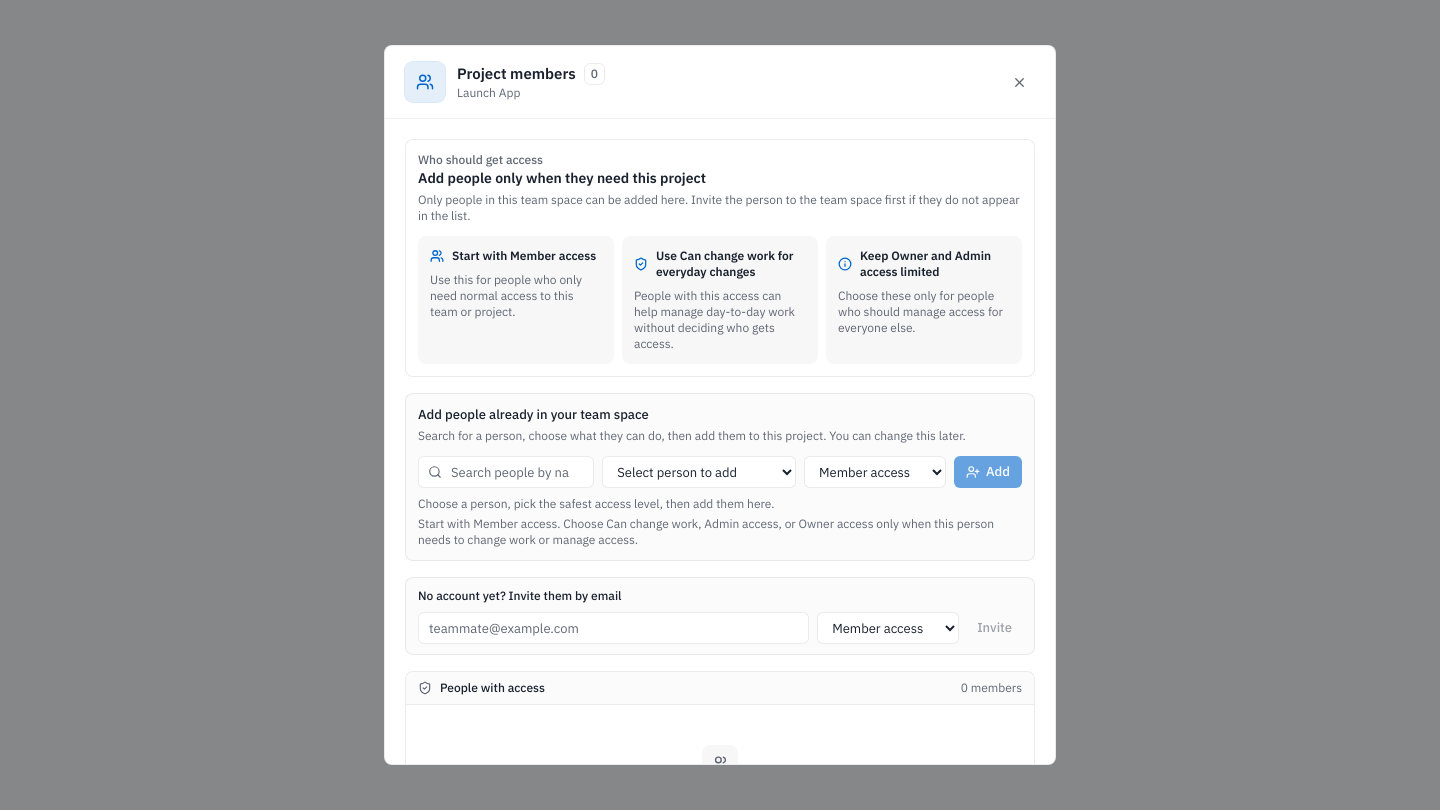
Test: ResourceMembersModal › shows permission guidance when adding a member fails
This screenshot has width=1440, height=810.
Select "builder (builder@example.com)" in the dropdown named "Select person to add" at [699, 472], box [602, 456, 796, 488]
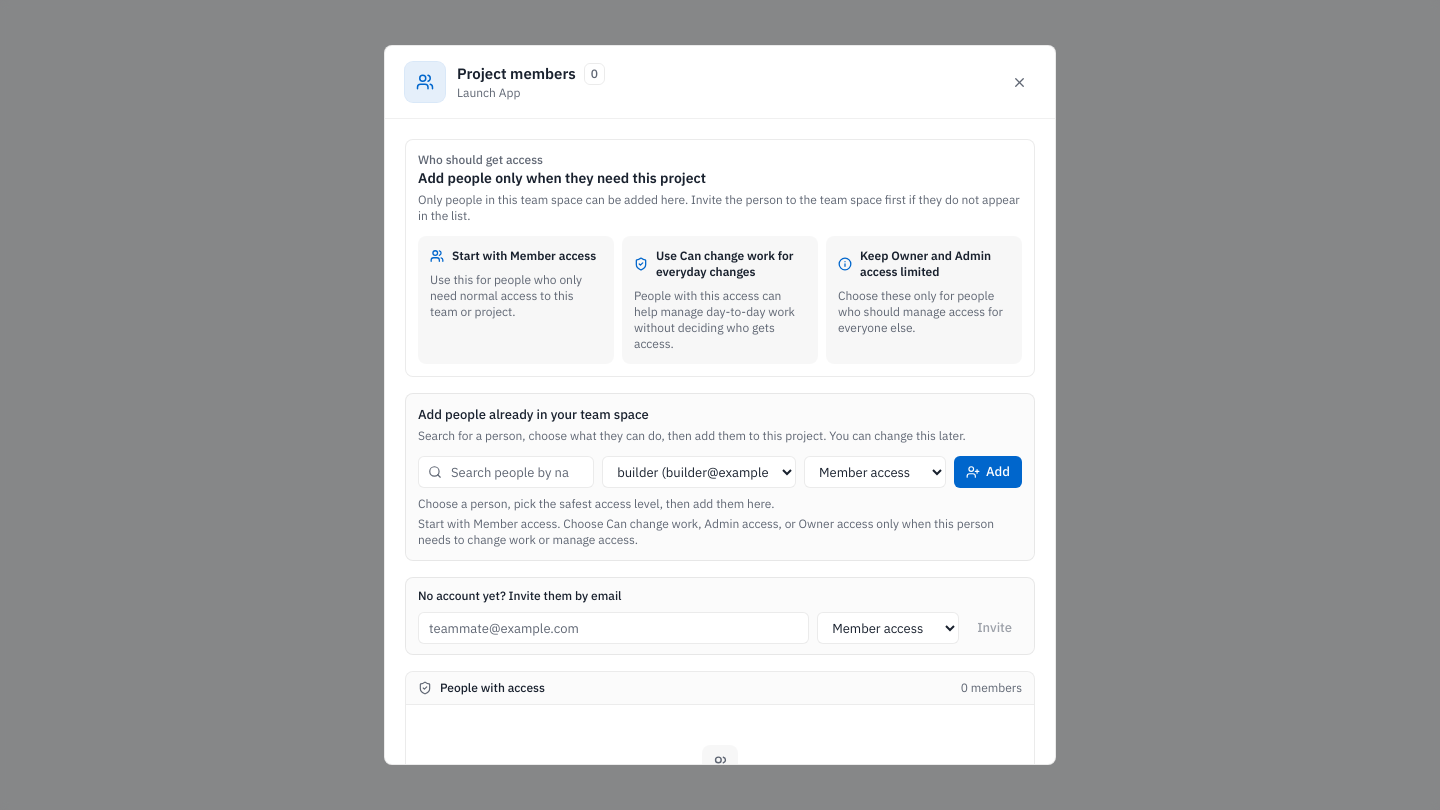
Click the button "Add".
click(988, 472)  # box [954, 456, 1022, 488]
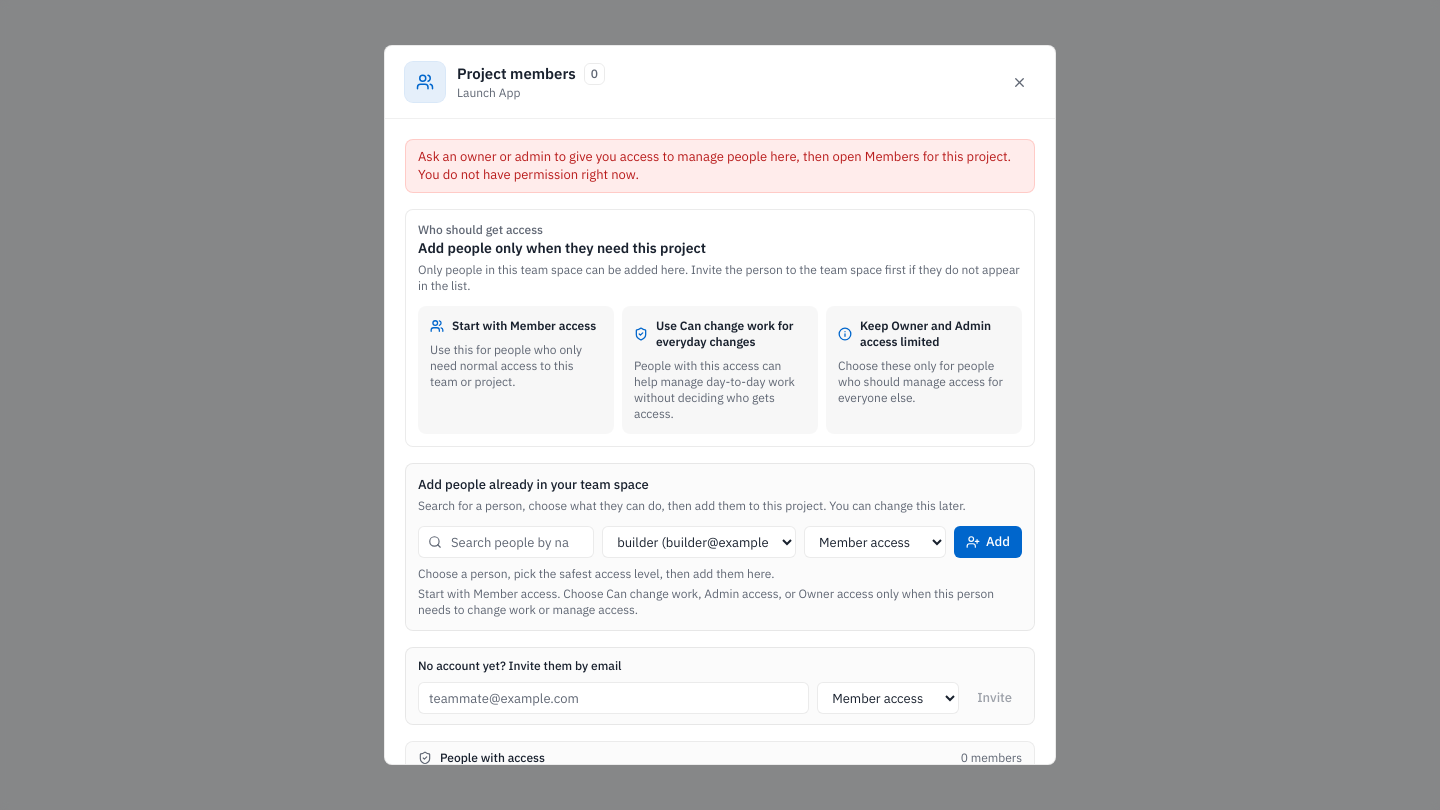
Result: the 1st message shows "You do not have permission" at [418, 148, 1011, 183]
Result: the 1st message shows "Ask an owner or admin" at [418, 148, 1011, 183]
